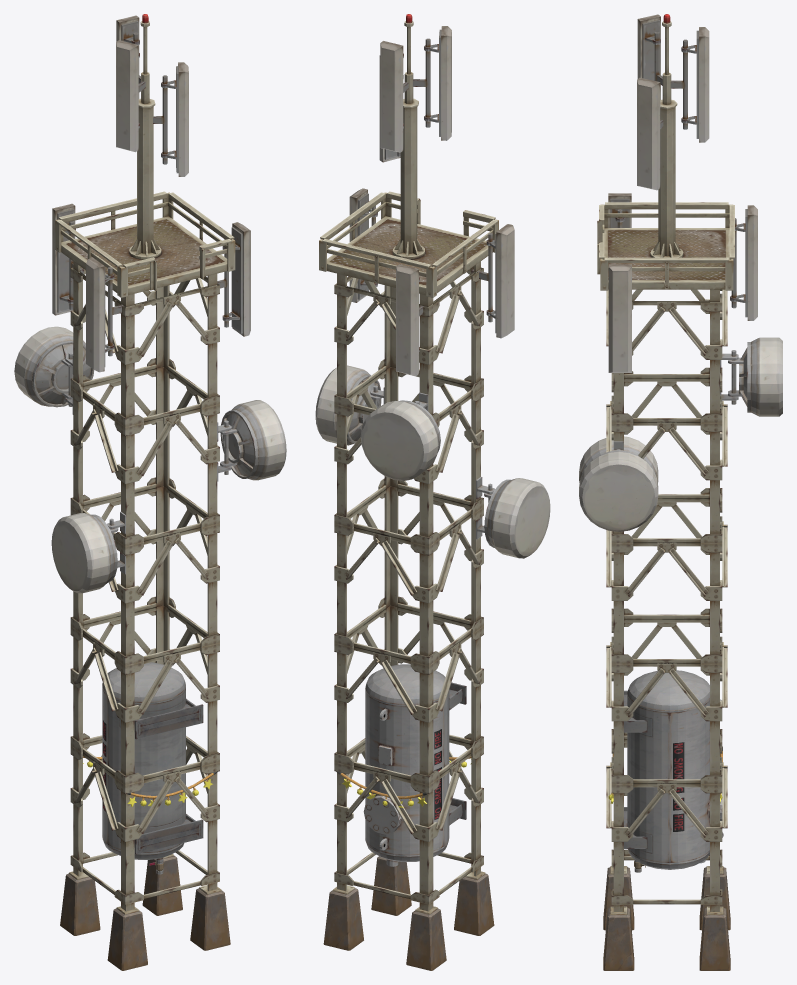
The model's file is P_Bldg_00134.obj.
3 renders of one model, left to right at view 1: azimuth 30°, elevation 25°; view 2: azimuth 150°, elevation 25°; view 3: azimuth 270°, elevation 25°, orthographic.
Size of the model in its own units: 4.36 by 19.29 by 3.84.
Materials: 16 (16 with a texture image).
